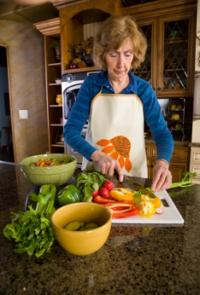person: (63, 14, 176, 196)
